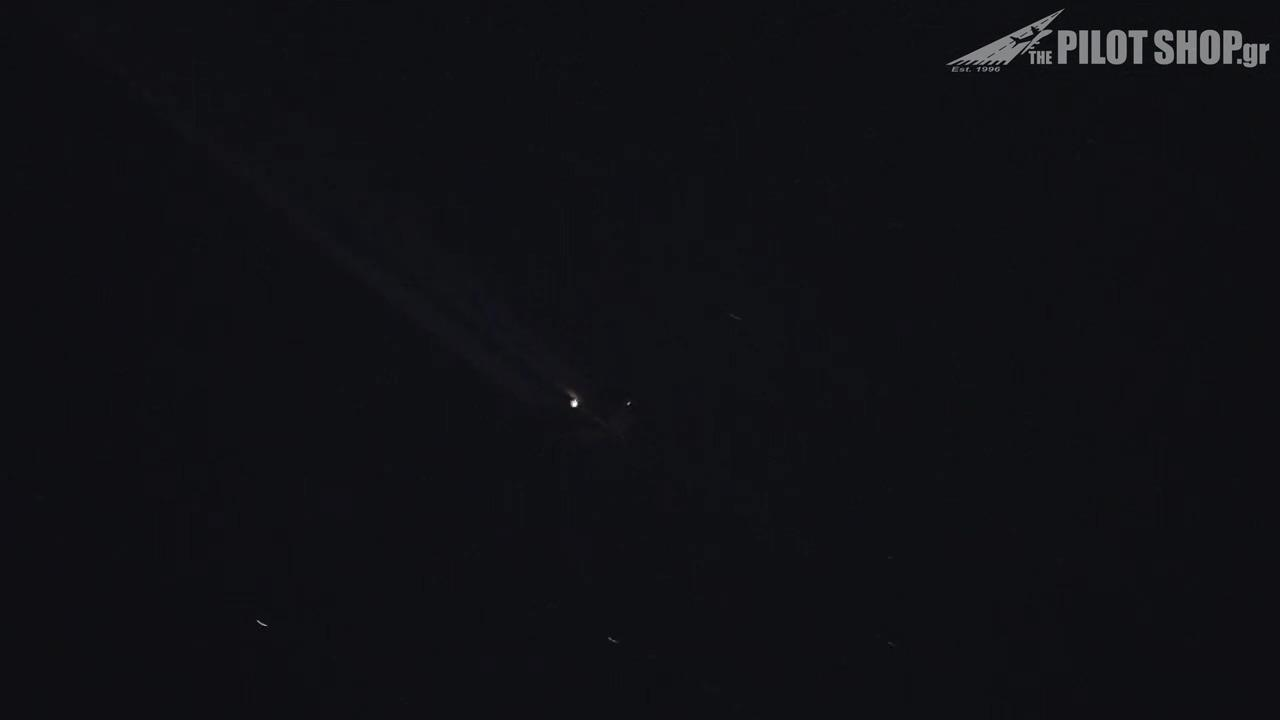Plane: (434, 348, 721, 506)
